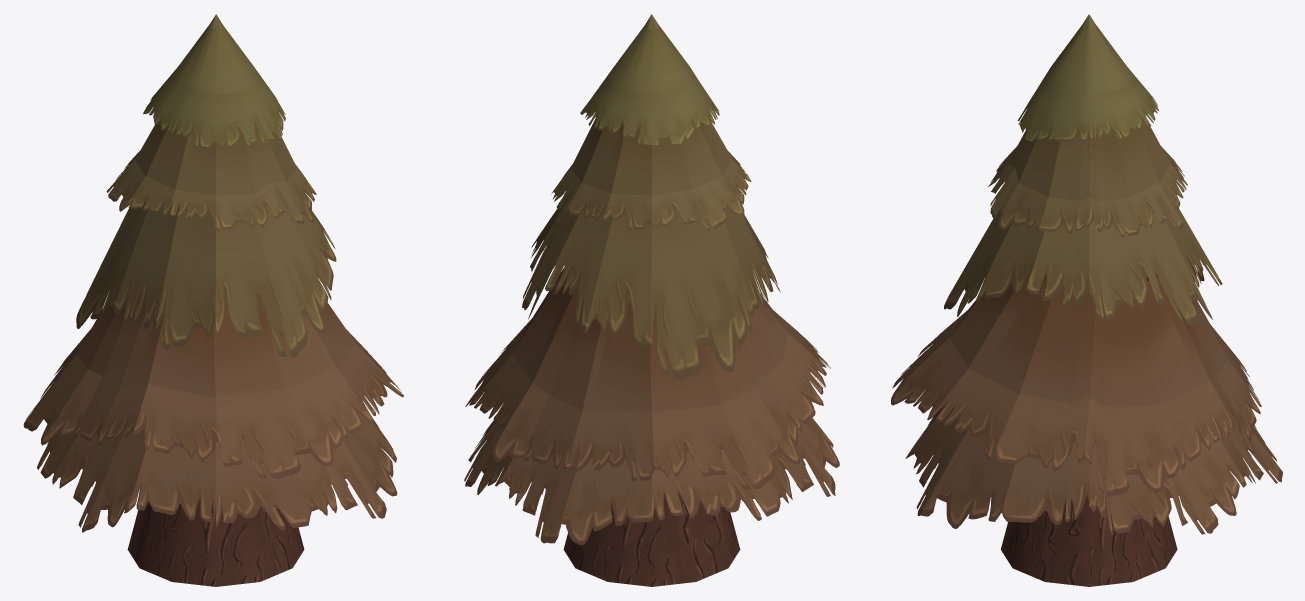
Rendered from Pine 2.FBX.
The picture shows the model from 3 angles, left to right: view 1: azimuth 30°, elevation 25°; view 2: azimuth 150°, elevation 25°; view 3: azimuth 270°, elevation 25°; orthographic projection.
Visible parts, largest first — view 1: Cone001; view 2: Cone001; view 3: Cone001.
Boxes of the visible parts, x1=… form: Cone001: x1=23, y1=14, x2=403, y2=586; Cone001: x1=464, y1=14, x2=839, y2=586; Cone001: x1=891, y1=14, x2=1282, y2=586.
Size of the model in its own units: 21.38 by 32.61 by 22.66.
